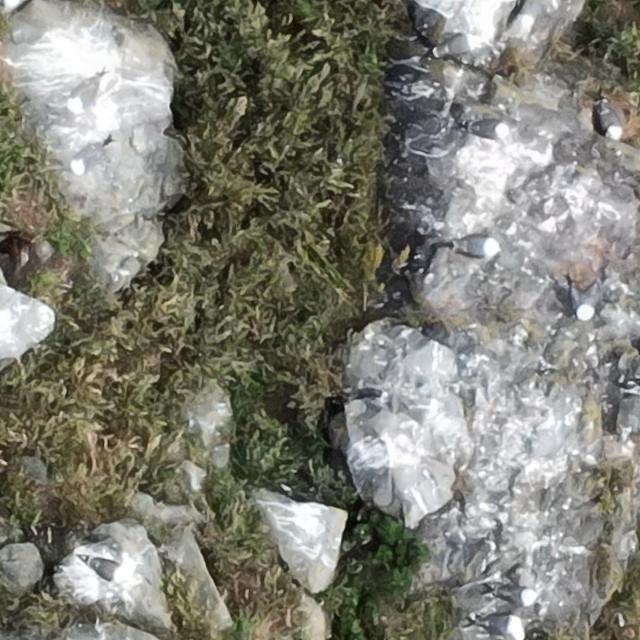umineko: (69, 73, 104, 112), (471, 614, 524, 639), (438, 33, 483, 60), (85, 557, 126, 585), (71, 145, 107, 175), (489, 584, 535, 606), (468, 120, 507, 140), (600, 104, 622, 139), (458, 237, 496, 255), (574, 289, 591, 319)
